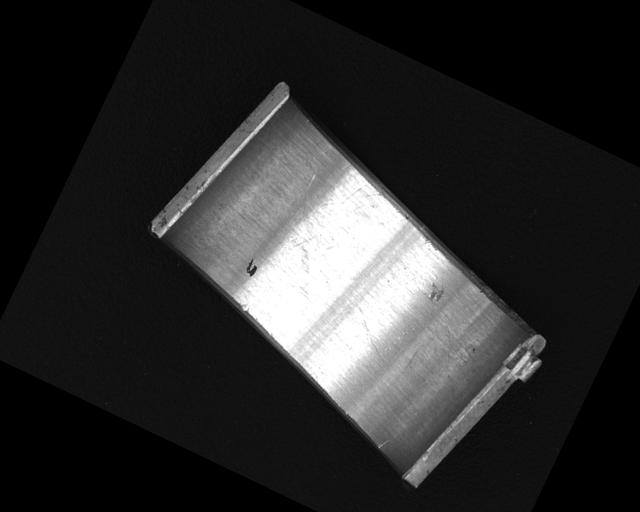blot: (276, 219, 334, 281), (242, 256, 261, 280)
bruise: (425, 280, 447, 305), (240, 303, 250, 313)
nick: (340, 303, 403, 363), (376, 437, 390, 452)
